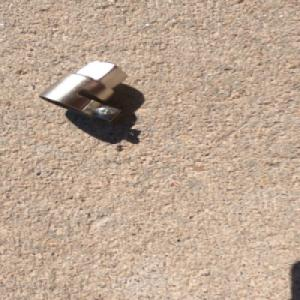MetalPart: (35, 60, 130, 125)
